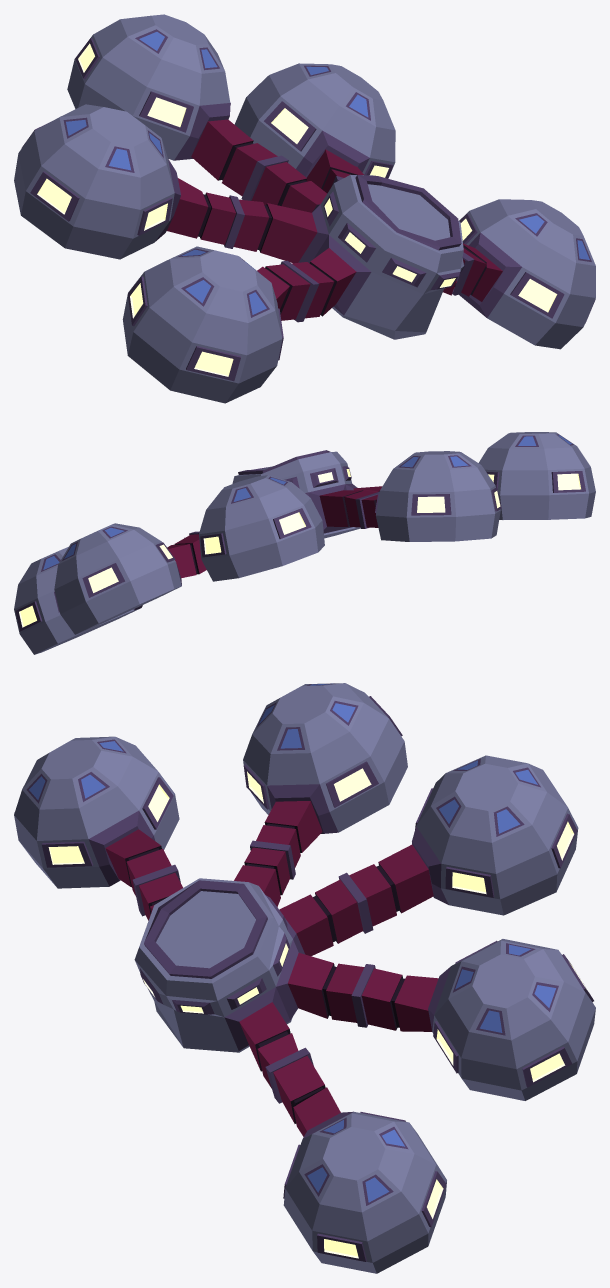
File: Cupula.fbx
3 views of the same model, one above another, from view 1: azimuth 30°, elevation 25°; view 2: azimuth 150°, elevation 25°; view 3: azimuth 270°, elevation 25° (orthographic). The views are drawn at different scales.
Parts seen in each view (by area): view 1: La cupula, Marcos, Luces.001, Cristal, Marcos 2; view 2: La cupula, Marcos, Luces.001, Cristal; view 3: La cupula, Marcos, Luces.001, Cristal, Marcos 2.
Part boxes in pixels (x1,y1,x2,y2): La cupula: (14,14,595,403); Marcos: (21,29,595,381); Luces.001: (37,43,557,376); Cristal: (66,32,589,314); Marcos 2: (198,140,486,316); La cupula: (14,432,595,654); Marcos: (15,434,585,631); Luces.001: (19,469,580,627); Cristal: (43,435,571,569); La cupula: (14,683,595,1273); Marcos: (14,683,593,1261); Luces.001: (48,768,588,1258); Cristal: (29,683,555,1202); Marcos 2: (125,822,404,1123).
Bounding box in the file's own units: 3591 × 2053 × 3083.
